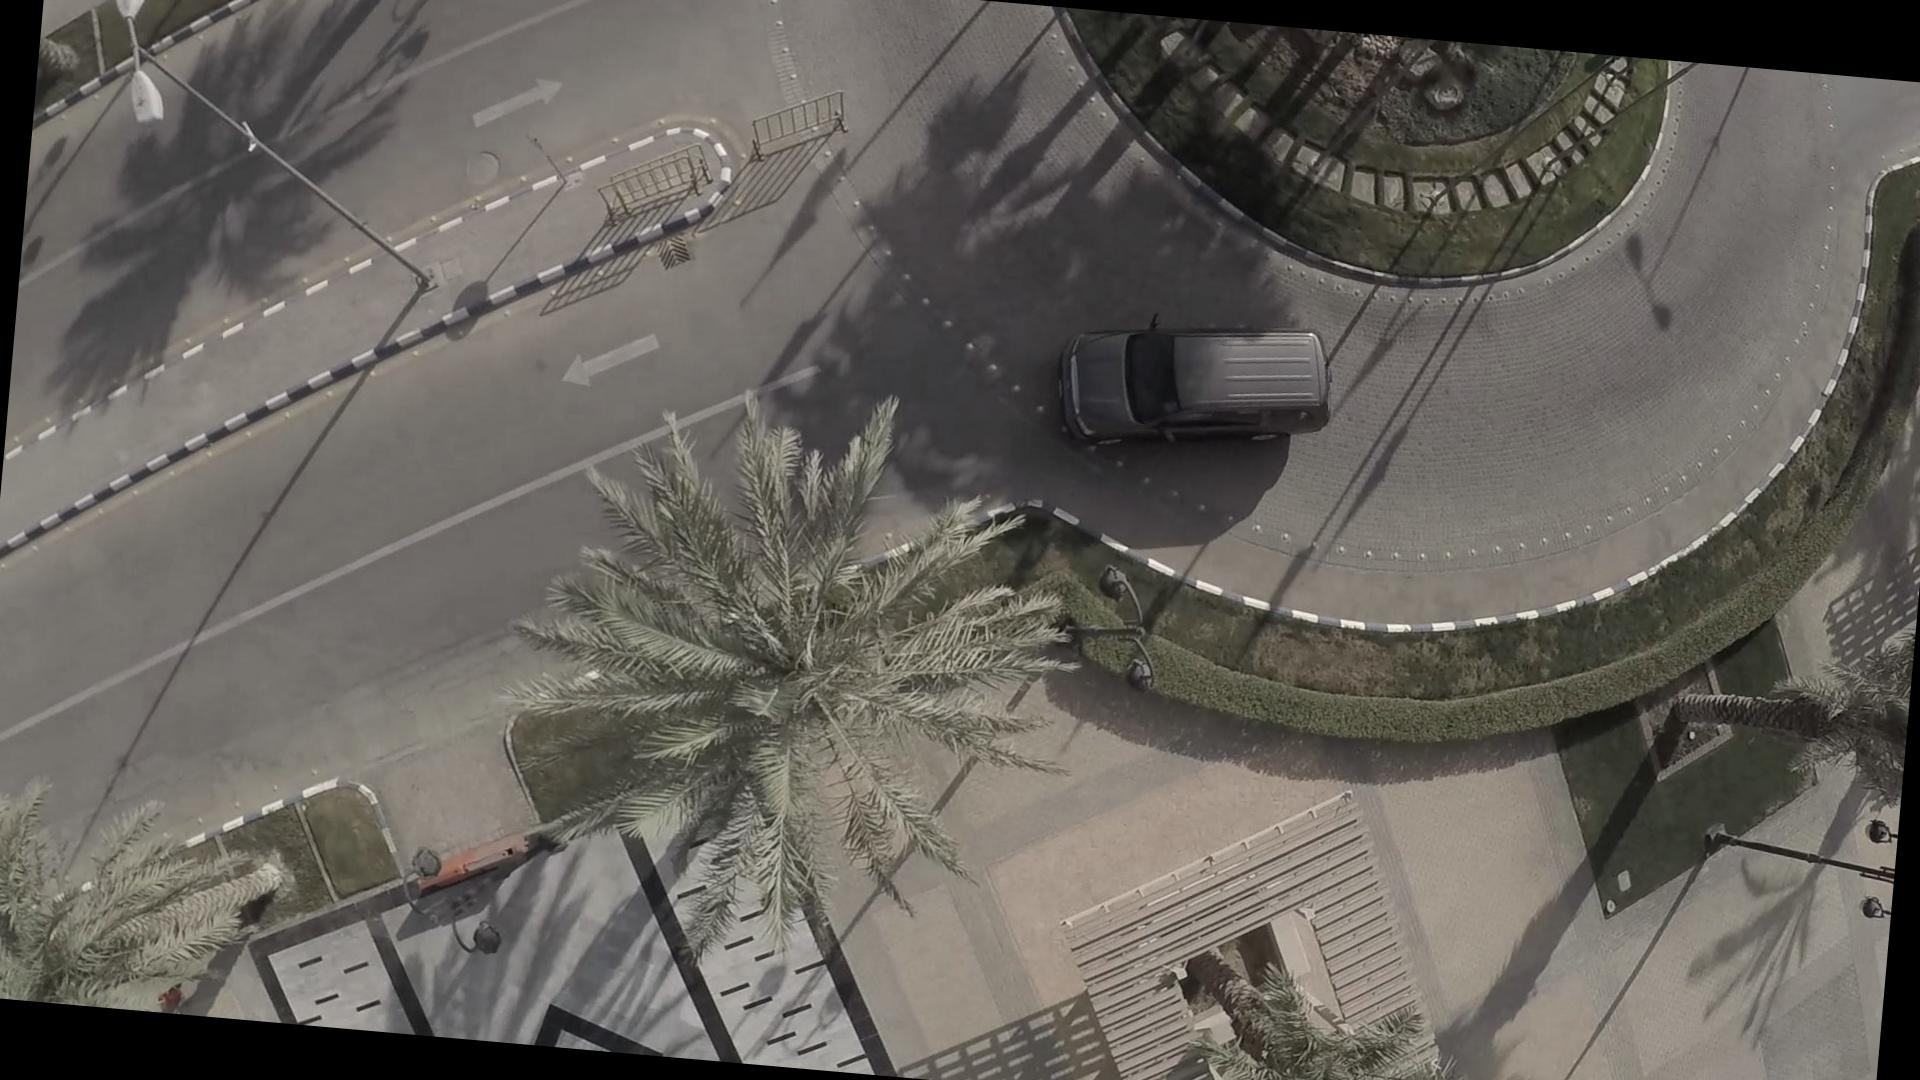vehicle: (1047, 295, 1340, 468)
